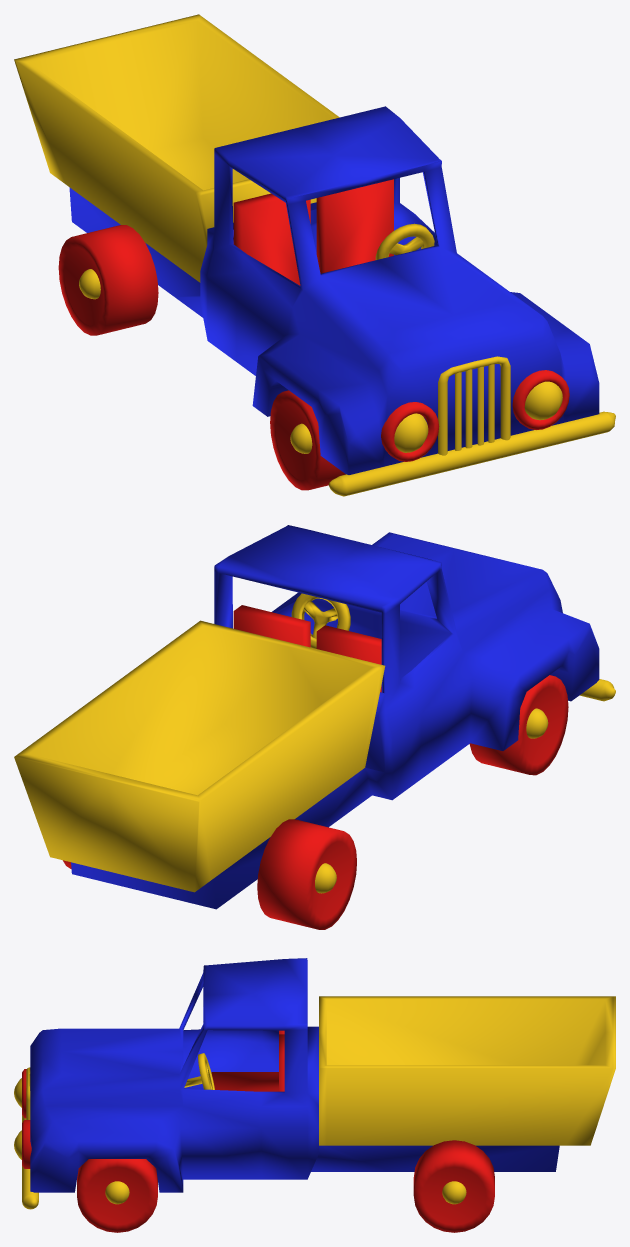
Rendered from toycar_intact.fbx.
The picture shows the model from 3 angles, top to bottom: view 1: azimuth 30°, elevation 25°; view 2: azimuth 150°, elevation 25°; view 3: azimuth 270°, elevation 25°; orthographic projection. The views are drawn at different scales.
Parts seen in each view (by area): view 1: Toy_Car; view 2: Toy_Car; view 3: Toy_Car.
Boxes of the visible parts, box(x1,y1,x2,y2) form: Toy_Car: box(14, 14, 615, 496); Toy_Car: box(14, 525, 615, 929); Toy_Car: box(14, 958, 615, 1232).
Size of the model in its own units: 0.1346 by 0.1091 by 0.3078.
